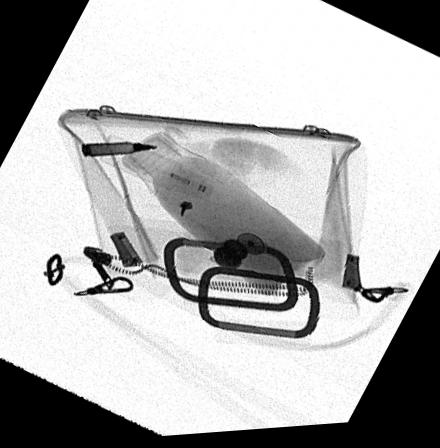Bullet: (80, 143, 157, 158)
